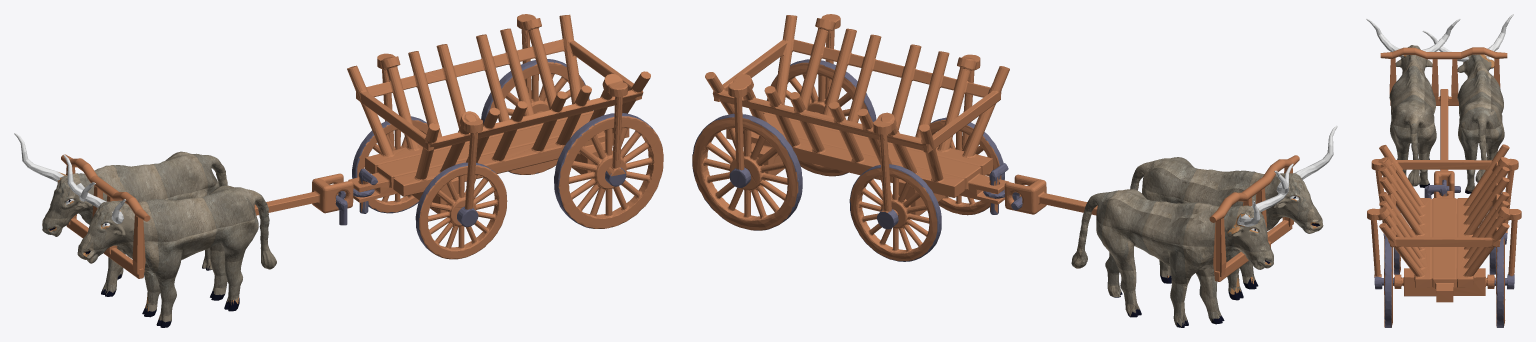
File: WagonOxen.fbx
3 views of the same model, side by side, from view 1: azimuth 30°, elevation 25°; view 2: azimuth 150°, elevation 25°; view 3: azimuth 270°, elevation 25° (orthographic). The views are drawn at different scales.
Parts seen in each view (by area): view 1: MainBody, MainBody.001, Backwardwheels.001, MainBody.002, Forwardwheels.001, Yoke, Backwardwheels.002, Yoke2, Forwardwheels.002; view 2: MainBody, MainBody.002, MainBody.001, Backwardwheels.002, Forwardwheels.002, Yoke, Backwardwheels.001, Yoke2, Forwardwheels.001; view 3: MainBody, MainBody.001, MainBody.002, Yoke2, Yoke, Backwardwheels.001, Backwardwheels.002, Forwardwheels.001, Forwardwheels.002.
Part boxes in pixels (x1,y1,x2,y2): MainBody: (335, 14, 650, 227); MainBody.001: (63, 154, 276, 327); Backwardwheels.001: (554, 113, 663, 228); MainBody.002: (14, 133, 227, 296); Forwardwheels.001: (415, 162, 507, 259); Yoke: (66, 173, 353, 278); Backwardwheels.002: (481, 59, 589, 174); Yoke2: (61, 154, 150, 274); Forwardwheels.002: (352, 116, 428, 213); MainBody: (705, 14, 1022, 229); MainBody.002: (1071, 163, 1293, 327); MainBody.001: (1130, 125, 1337, 300); Backwardwheels.002: (692, 113, 802, 230); Forwardwheels.002: (849, 164, 941, 261); Yoke: (1004, 174, 1292, 281); Backwardwheels.001: (766, 59, 876, 176); Yoke2: (1209, 155, 1299, 276); Forwardwheels.001: (929, 117, 1004, 215); MainBody: (1367, 144, 1521, 302); MainBody.001: (1366, 19, 1460, 187); MainBody.002: (1422, 14, 1513, 193); Yoke2: (1380, 47, 1507, 102); Yoke: (1390, 89, 1458, 197); Backwardwheels.001: (1384, 235, 1392, 327); Backwardwheels.002: (1496, 235, 1505, 327); Forwardwheels.001: (1393, 206, 1400, 274); Forwardwheels.002: (1489, 247, 1496, 274).
Size of the model in its own units: 8429 by 2259 by 2627.
